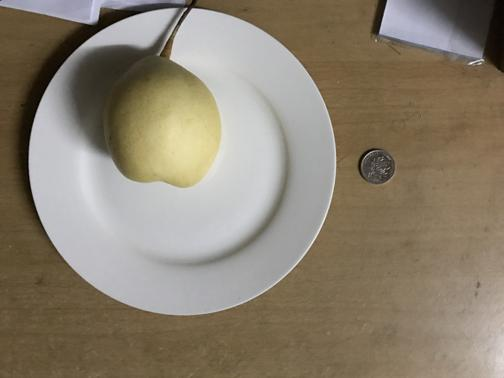coin: (359, 147, 396, 184)
pear: (108, 52, 221, 188)
